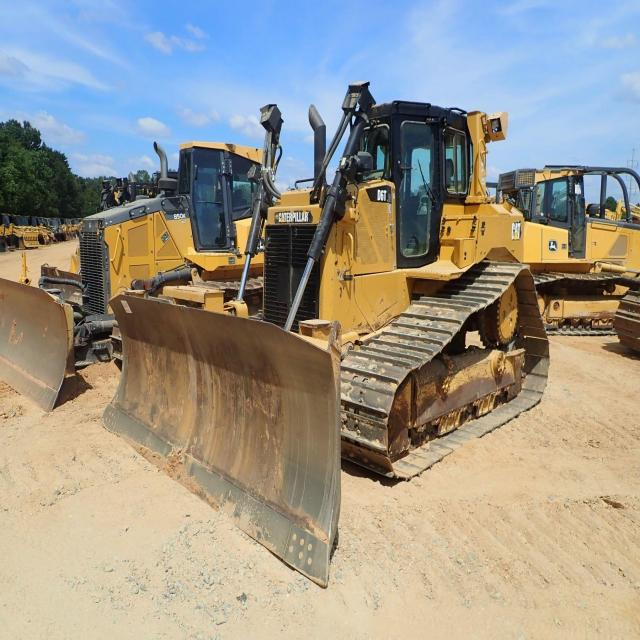Bulldozer: (107, 77, 592, 585), (1, 79, 294, 422)
